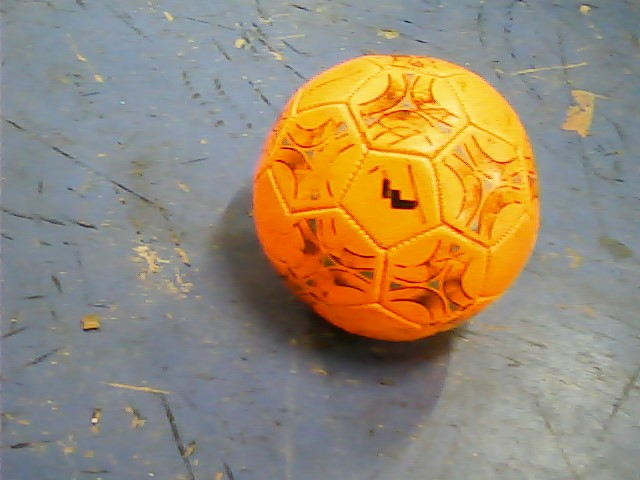Orange_ball: (249, 53, 545, 345)
